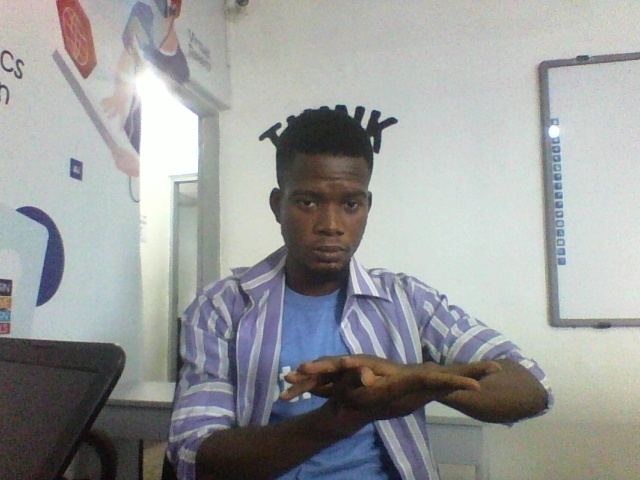nice_to_meet_you: (242, 357, 536, 458)
